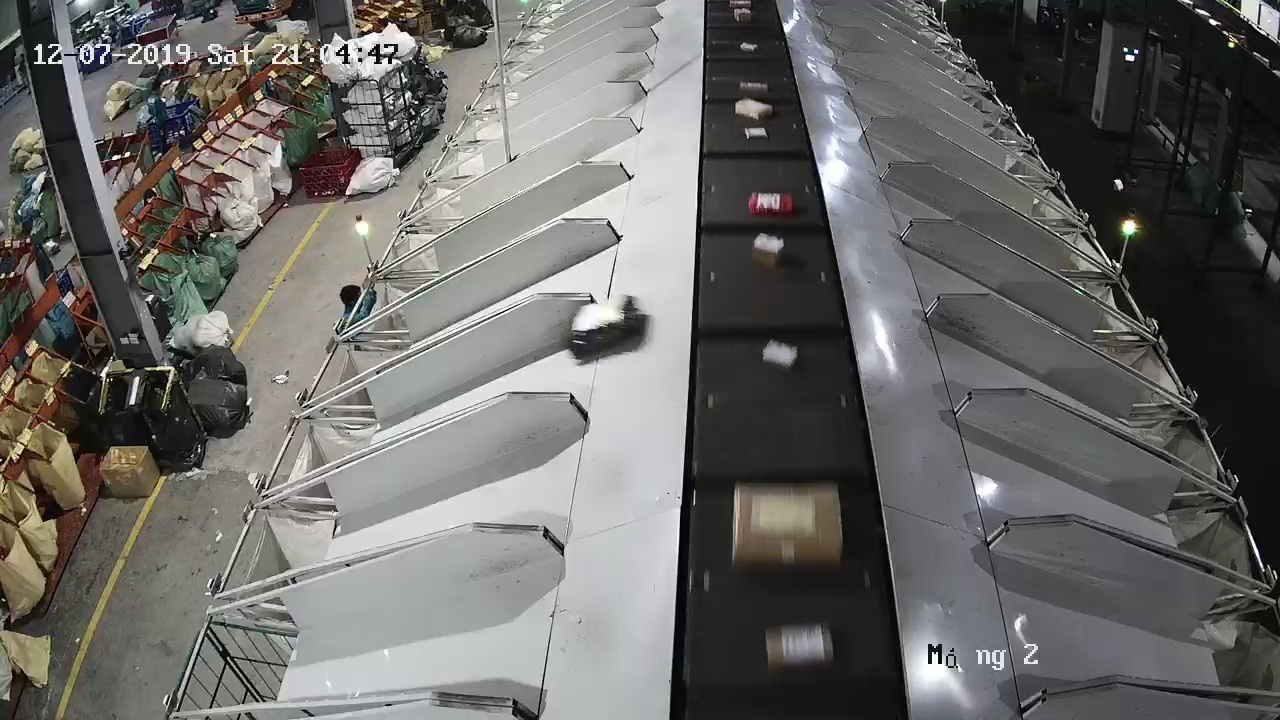parcel: (566, 293, 639, 358)
